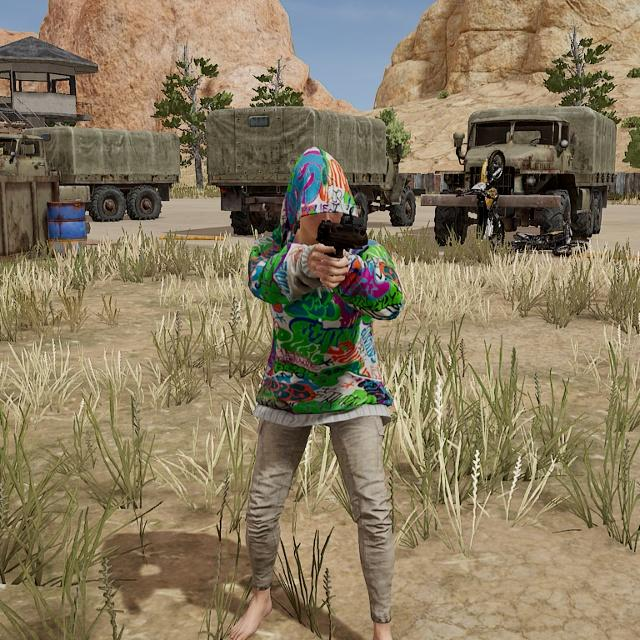head: (286, 148, 353, 245)
people: (236, 144, 410, 640)
